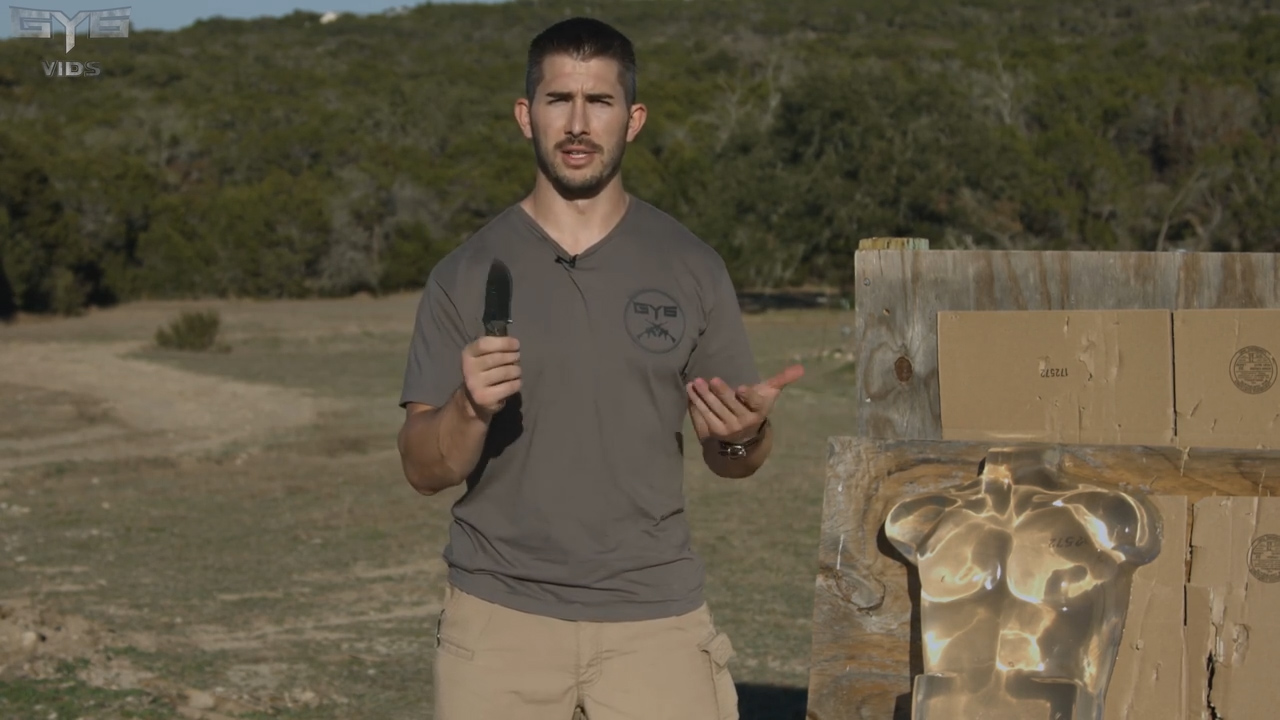knife: (459, 246, 539, 401)
